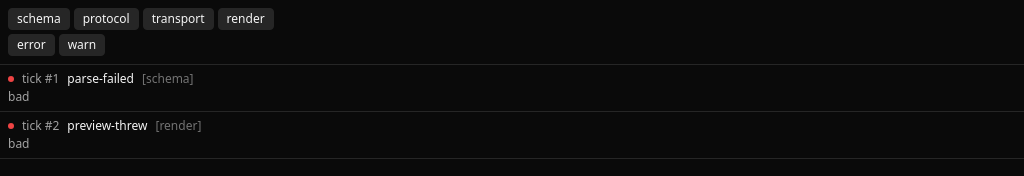
ErrorsPanel › toggling a category chip hides matching rows
The image size is (1024, 176).
Click the button "schema" at (39, 19), box [8,8,70,30]
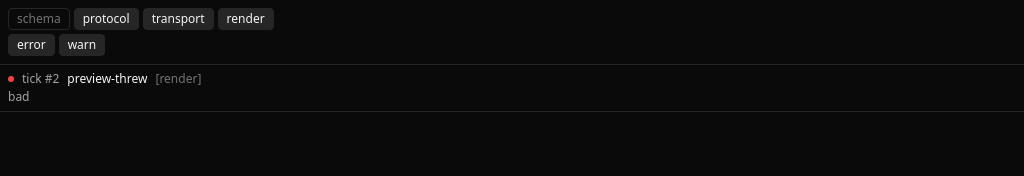
Expected: the text "preview-threw" is shown, [67,71,147,87]
Expected: the button "parse-failed" is gone
